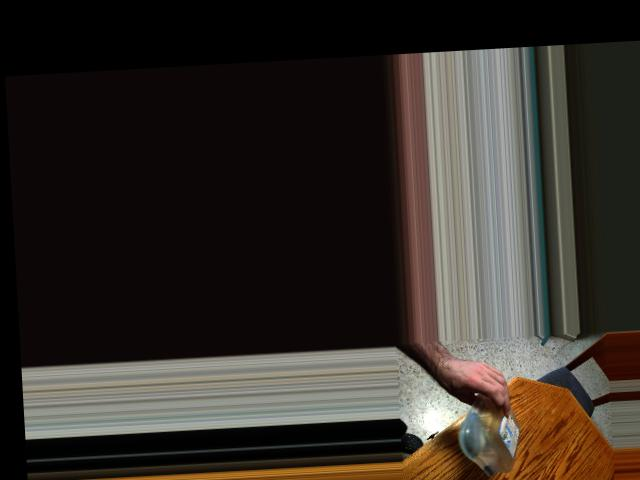cheese: (463, 378, 519, 472)
